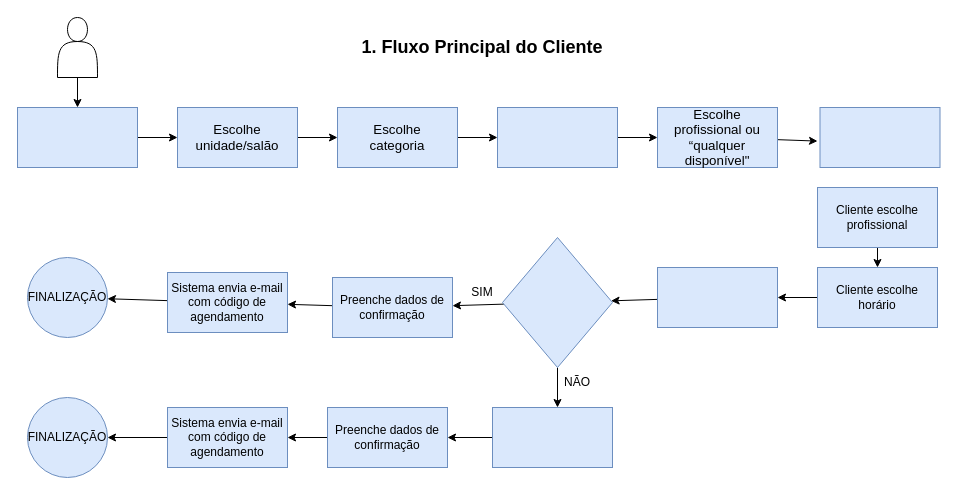
Image size: 958x495. Some labels were removed from this diagram. Each missing label, with the centre of its shape:
"Cliente tem cadastro?" goes at (557,302).
"CONSULTA DISPONIBILIDADE" goes at (879,137).
"Escolhe serviço" goes at (557,137).
"Fazer cadastro" goes at (552,437).
"LANDPAGE" goes at (77,137).
"Sistema cria pré-reserva temporária" goes at (717,297).
